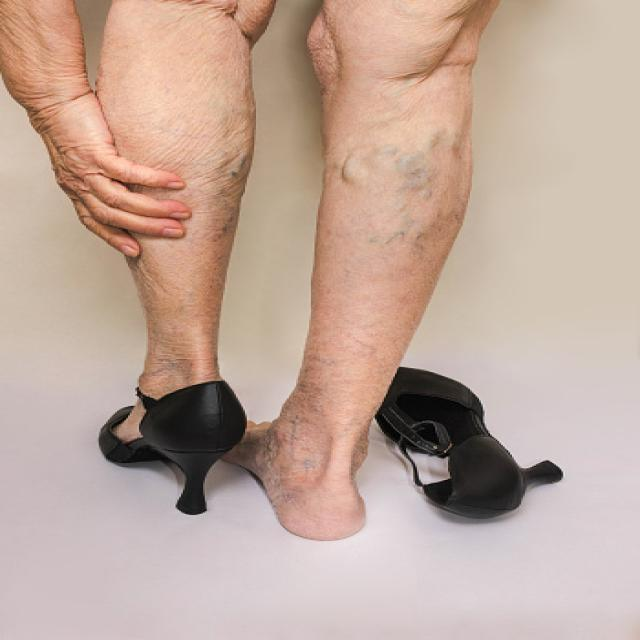Varicose: (308, 114, 484, 309)
